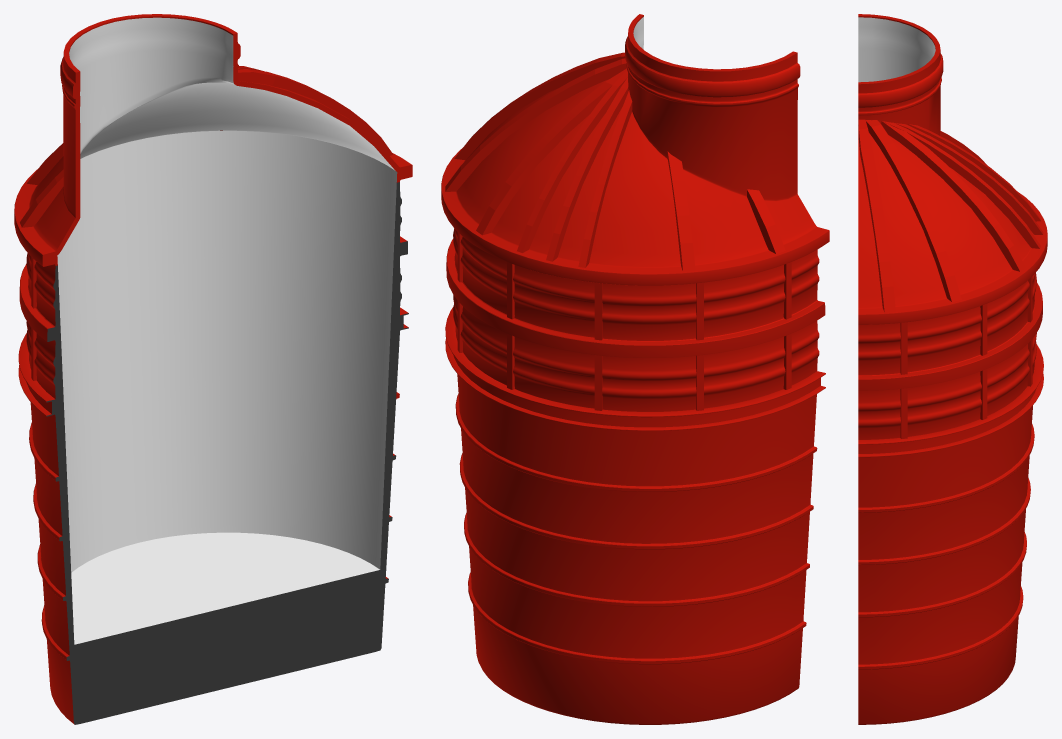
Rendered from Пкэт2.fbx.
3 views of the same model, side by side, from view 1: azimuth 30°, elevation 25°; view 2: azimuth 150°, elevation 25°; view 3: azimuth 270°, elevation 25° (orthographic). The views are drawn at different scales.
Visible parts, largest first — view 1: Cylinder.001, Куб.001; view 2: Cylinder.001, Куб.001, Cube.001; view 3: Cylinder.001, Куб.001, Cube.001.
Boxes of the visible parts, bbox=[...] form: Cylinder.001: bbox=[14, 14, 412, 724]; Куб.001: bbox=[20, 66, 393, 227]; Cylinder.001: bbox=[441, 14, 829, 724]; Куб.001: bbox=[445, 52, 785, 271]; Cube.001: bbox=[457, 232, 791, 410]; Cylinder.001: bbox=[858, 14, 1047, 724]; Куб.001: bbox=[858, 119, 1043, 312]; Cube.001: bbox=[900, 276, 1032, 438].
Bounding box in the file's own units: 160 × 270 × 80.07.
